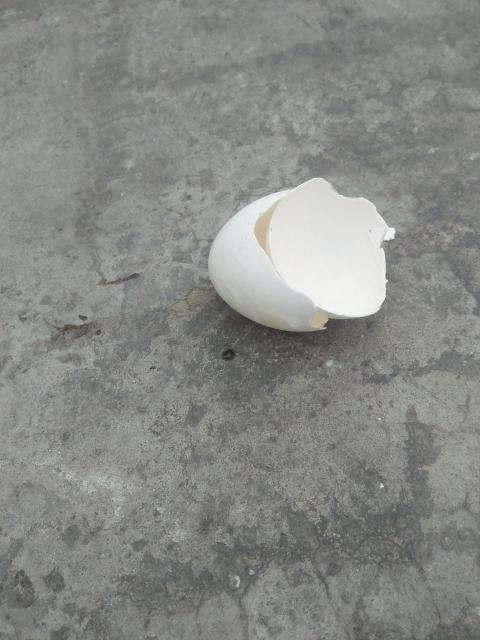Roto: (206, 176, 396, 333)
